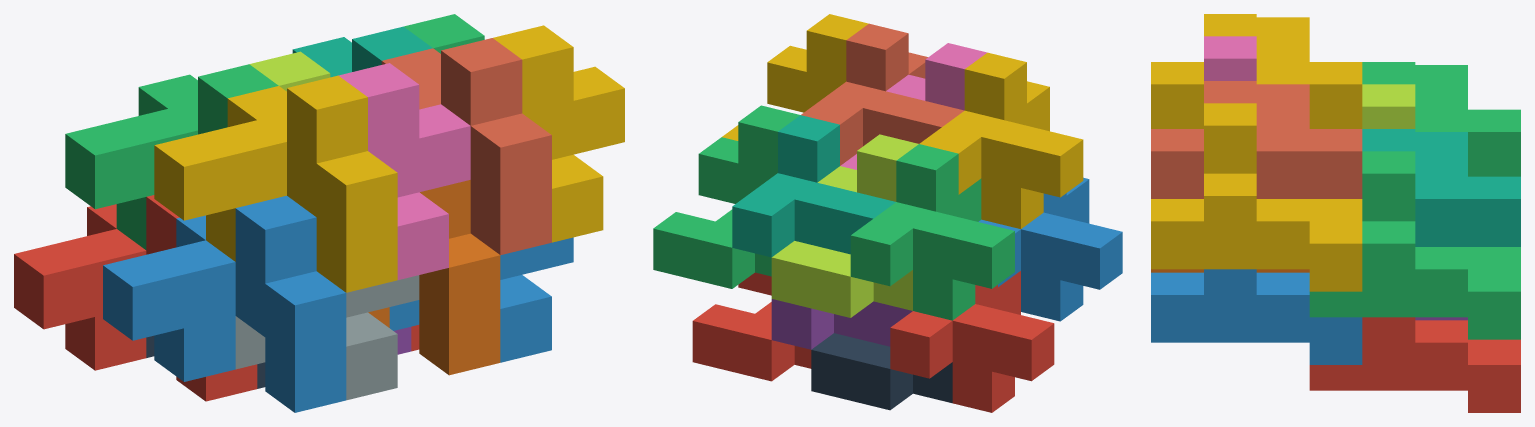
Rendered from tiling.obj.
The picture shows the model from 3 angles, left to right: view 1: azimuth 30°, elevation 25°; view 2: azimuth 150°, elevation 25°; view 3: azimuth 270°, elevation 25°; orthographic projection. The views are drawn at different scales.
Parts seen in each view (by area): view 1: copy_1_domain_2, copy_1_domain_4, copy_1_domain_8, copy_1_domain_1, copy_1_domain_3, copy_2_domain_4, copy_2_domain_8, copy_1_domain_6, copy_2_domain_2, copy_2_domain_6, copy_1_domain_7, copy_2_domain_3 (+1 smaller); view 2: copy_1_domain_3, copy_1_domain_4, copy_1_domain_1, copy_1_domain_7, copy_2_domain_7, copy_1_domain_2, copy_1_domain_8, copy_2_domain_3, copy_2_domain_1, copy_2_domain_5, copy_2_domain_8, copy_1_domain_5 (+1 smaller); view 3: copy_2_domain_8, copy_2_domain_7, copy_1_domain_8, copy_2_domain_6, copy_2_domain_5, copy_1_domain_4, copy_1_domain_7, copy_1_domain_3, copy_2_domain_3, copy_2_domain_4, copy_1_domain_6.
Part boxes in pixels (bbox=[...]): copy_1_domain_2: bbox=[103, 195, 346, 412]; copy_1_domain_4: bbox=[154, 75, 397, 292]; copy_1_domain_8: bbox=[381, 38, 551, 255]; copy_1_domain_1: bbox=[14, 195, 257, 401]; copy_1_domain_3: bbox=[65, 64, 278, 249]; copy_2_domain_4: bbox=[338, 63, 470, 279]; copy_2_domain_8: bbox=[493, 25, 624, 242]; copy_1_domain_6: bbox=[368, 180, 500, 375]; copy_2_domain_2: bbox=[235, 275, 419, 400]; copy_2_domain_6: bbox=[389, 237, 573, 362]; copy_1_domain_7: bbox=[292, 26, 432, 77]; copy_2_domain_3: bbox=[249, 51, 330, 91]; copy_1_domain_3: bbox=[850, 144, 1014, 320]; copy_1_domain_4: bbox=[919, 52, 1083, 228]; copy_1_domain_1: bbox=[890, 271, 1054, 412]; copy_1_domain_7: bbox=[732, 115, 895, 257]; copy_2_domain_7: bbox=[653, 105, 800, 288]; copy_1_domain_2: bbox=[978, 177, 1122, 321]; copy_1_domain_8: bbox=[801, 23, 964, 165]; copy_2_domain_3: bbox=[771, 134, 918, 317]; copy_2_domain_1: bbox=[811, 333, 952, 410]; copy_2_domain_5: bbox=[692, 272, 811, 381]; copy_2_domain_8: bbox=[722, 14, 868, 140]; copy_1_domain_5: bbox=[771, 299, 912, 349]; copy_2_domain_8: bbox=[1151, 103, 1362, 291]; copy_2_domain_7: bbox=[1309, 151, 1520, 339]; copy_1_domain_8: bbox=[1151, 81, 1362, 198]; copy_2_domain_6: bbox=[1151, 269, 1362, 364]; copy_2_domain_5: bbox=[1309, 317, 1520, 412]; copy_1_domain_4: bbox=[1151, 14, 1362, 128]; copy_1_domain_7: bbox=[1362, 129, 1520, 246]; copy_1_domain_3: bbox=[1362, 62, 1520, 176]; copy_2_domain_3: bbox=[1362, 84, 1415, 128]; copy_2_domain_4: bbox=[1204, 36, 1256, 80]; copy_1_domain_6: bbox=[1151, 269, 1309, 272].
Bounding box in the file's own units: 9 × 6 × 7.
